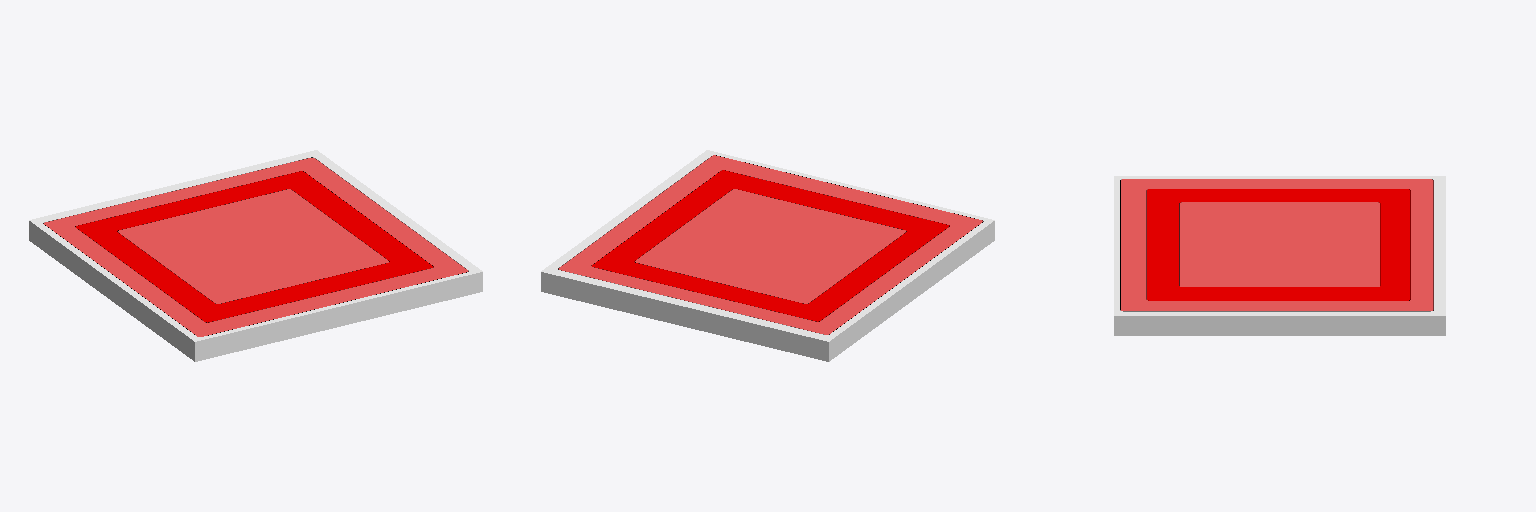
3 renders of one model, left to right at view 1: azimuth 30°, elevation 25°; view 2: azimuth 150°, elevation 25°; view 3: azimuth 270°, elevation 25°, orthographic.
Parts seen in each view (by area): view 1: polySurface17 polySurface16 polySurface14 polySurface11 polySurf; view 2: polySurface17 polySurface16 polySurface14 polySurface11 polySurf; view 3: polySurface17 polySurface16 polySurface14 polySurface11 polySurf.
Boxes of the visible parts, box(x1,y1,x2,y2) form: polySurface17 polySurface16 polySurface14 polySurface11 polySurf: box(29, 150, 482, 361); polySurface17 polySurface16 polySurface14 polySurface11 polySurf: box(541, 150, 994, 361); polySurface17 polySurface16 polySurface14 polySurface11 polySurf: box(1114, 176, 1445, 335).
Bounding box in the file's own units: 4 × 0.2668 × 4.
1 materials, 1 textured.